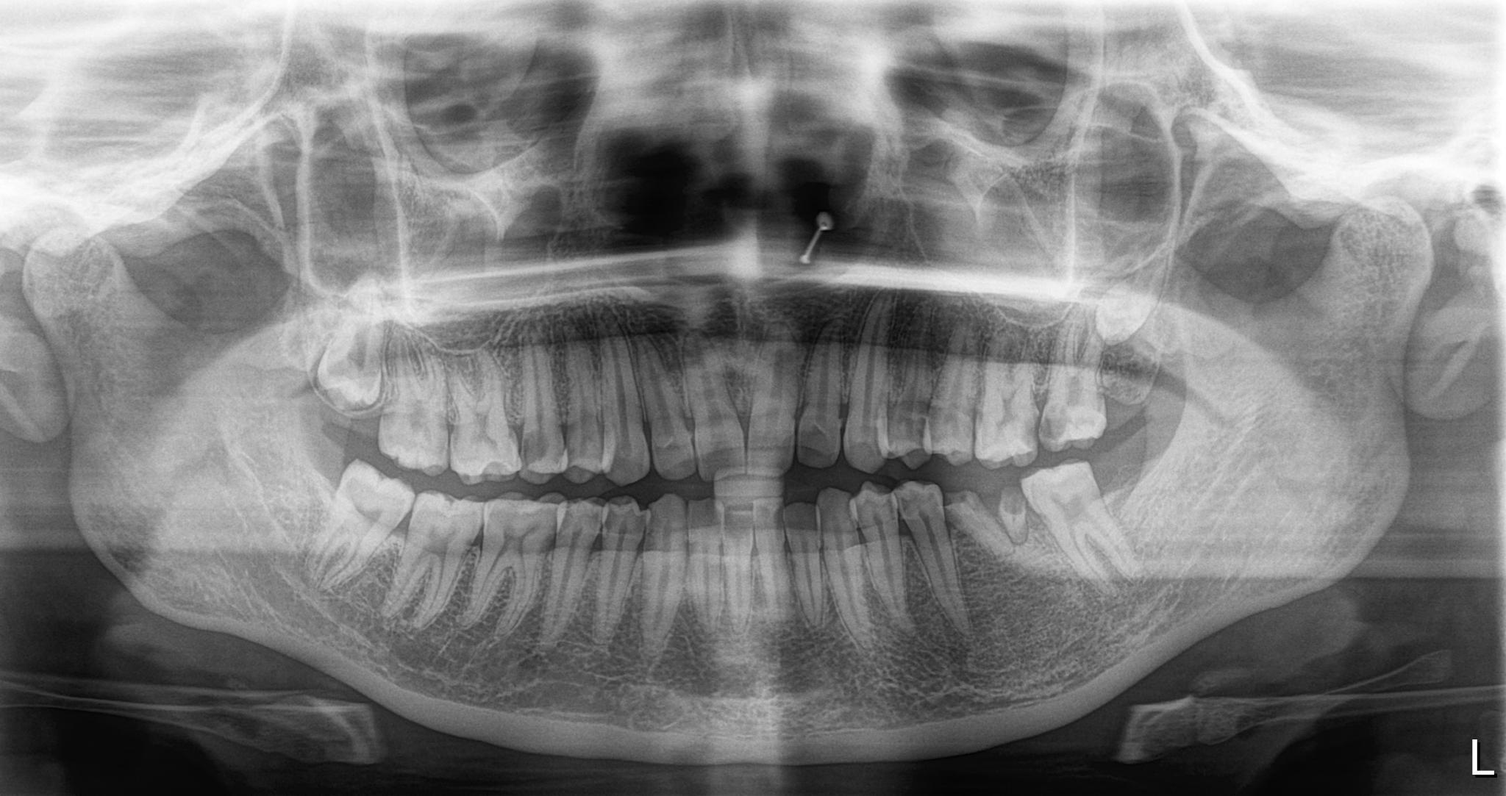Dental Caries: (805, 426, 846, 469), (522, 426, 554, 467)
Missing Tooth: (1114, 478, 1179, 561), (283, 448, 332, 554), (1114, 307, 1146, 429)
Retained Root: (949, 483, 996, 580), (993, 474, 1030, 595)
